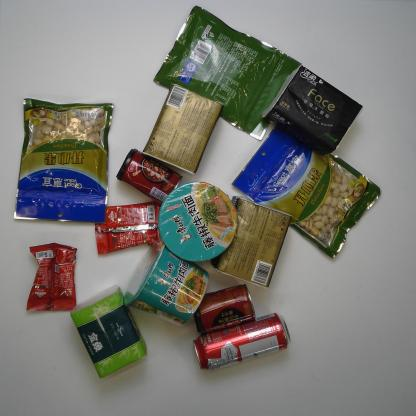Alcohol: (196, 313, 289, 369)
Canned Food: (113, 151, 184, 202), (189, 282, 257, 330)
Dried Fruit: (229, 116, 384, 256), (153, 5, 301, 142), (17, 98, 113, 224)
Instant Drink: (88, 197, 163, 256), (29, 241, 81, 312)
Instant Noodles: (122, 242, 211, 325), (158, 183, 238, 264)
Tissue: (264, 65, 360, 159), (211, 192, 291, 286), (69, 286, 146, 379), (147, 83, 224, 174)
